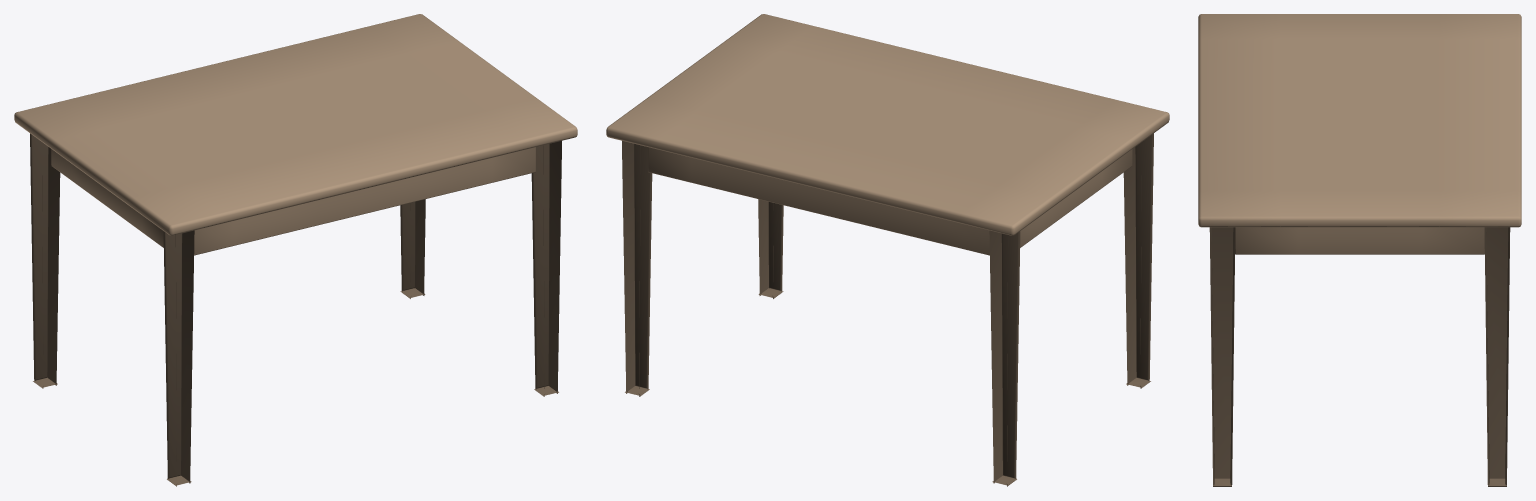
The model's file is table.glb.
The picture shows the model from 3 angles, left to right: view 1: azimuth 30°, elevation 25°; view 2: azimuth 150°, elevation 25°; view 3: azimuth 270°, elevation 25°; orthographic projection. The views are drawn at different scales.
Parts seen in each view (by area): view 1: p_table; view 2: p_table; view 3: p_table.
Boxes of the visible parts, box(x1,y1,x2,y2) form: p_table: box(14, 14, 577, 486); p_table: box(606, 14, 1169, 486); p_table: box(1198, 14, 1521, 486).
Size of the model in its own units: 1.2 by 0.7544 by 0.8.
